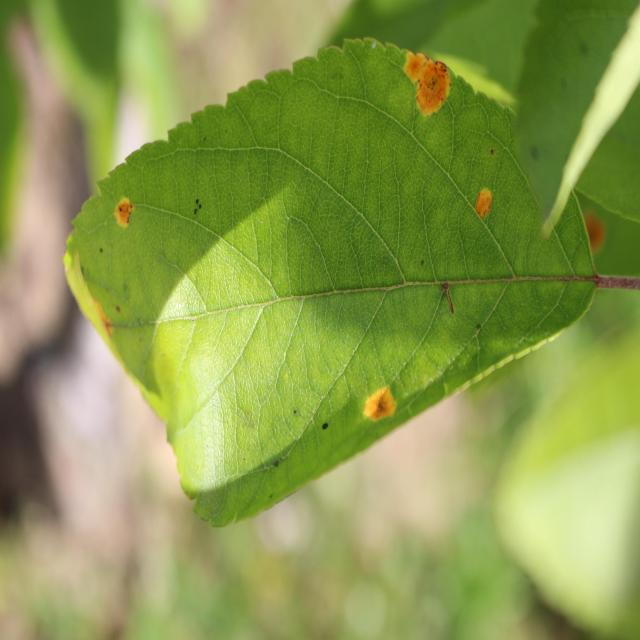rust: (61, 37, 598, 528)
